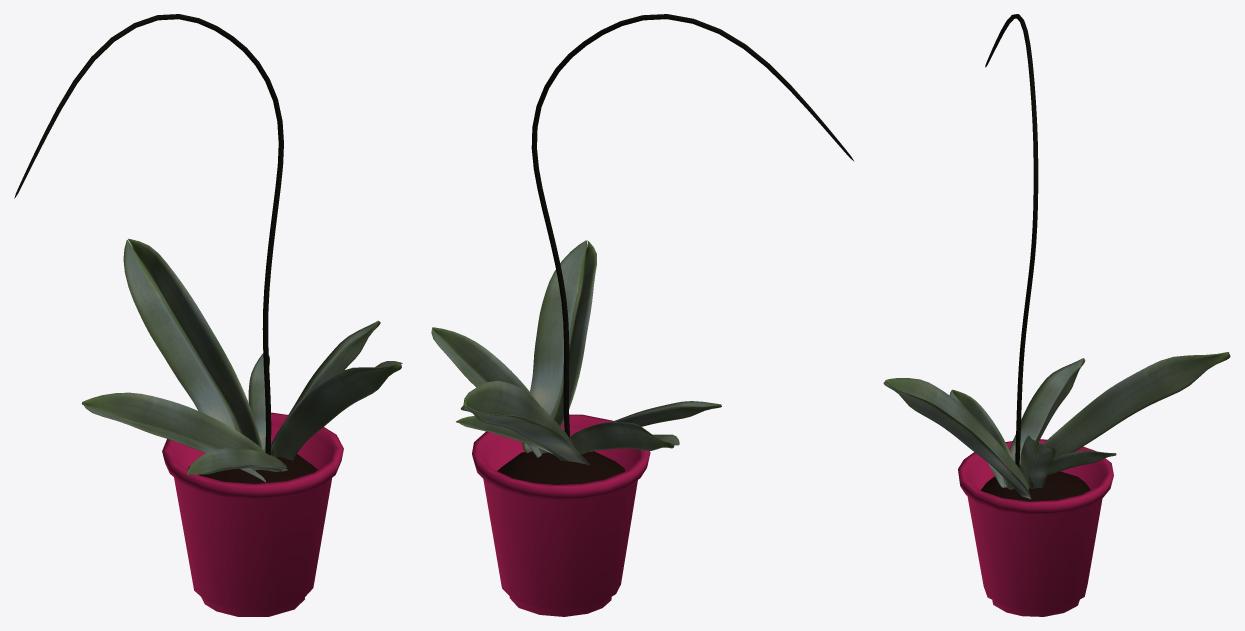
The model's file is orchidmodelpot0617.obj.
3 views of the same model, side by side, from view 1: azimuth 30°, elevation 25°; view 2: azimuth 150°, elevation 25°; view 3: azimuth 270°, elevation 25° (orthographic). The views are drawn at different scales.
Parts seen in each view (by area): view 1: Leaves_Plane.003, Pot_Cylinder, Stem_Cylinder.002; view 2: Pot_Cylinder, Leaves_Plane.003, Stem_Cylinder.002; view 3: Pot_Cylinder, Leaves_Plane.003, Stem_Cylinder.002.
Boxes of the visible parts, x1,y1,x2,y2 form: Leaves_Plane.003: (81, 238, 402, 482); Pot_Cylinder: (162, 412, 343, 616); Stem_Cylinder.002: (14, 14, 283, 455); Pot_Cylinder: (472, 414, 650, 616); Leaves_Plane.003: (431, 240, 721, 465); Stem_Cylinder.002: (531, 14, 854, 437); Pot_Cylinder: (958, 439, 1113, 616); Leaves_Plane.003: (883, 352, 1230, 499); Stem_Cylinder.002: (985, 14, 1038, 467).
Bounding box in the file's own units: 12.35 × 18.08 × 10.81.
